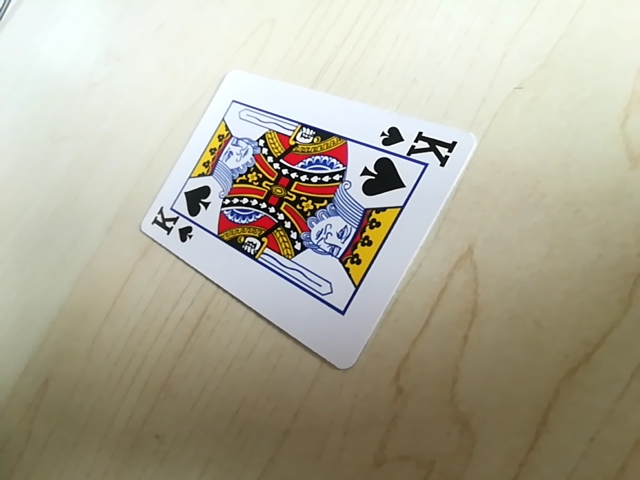ht k: (372, 123, 458, 162), (146, 208, 201, 249)
